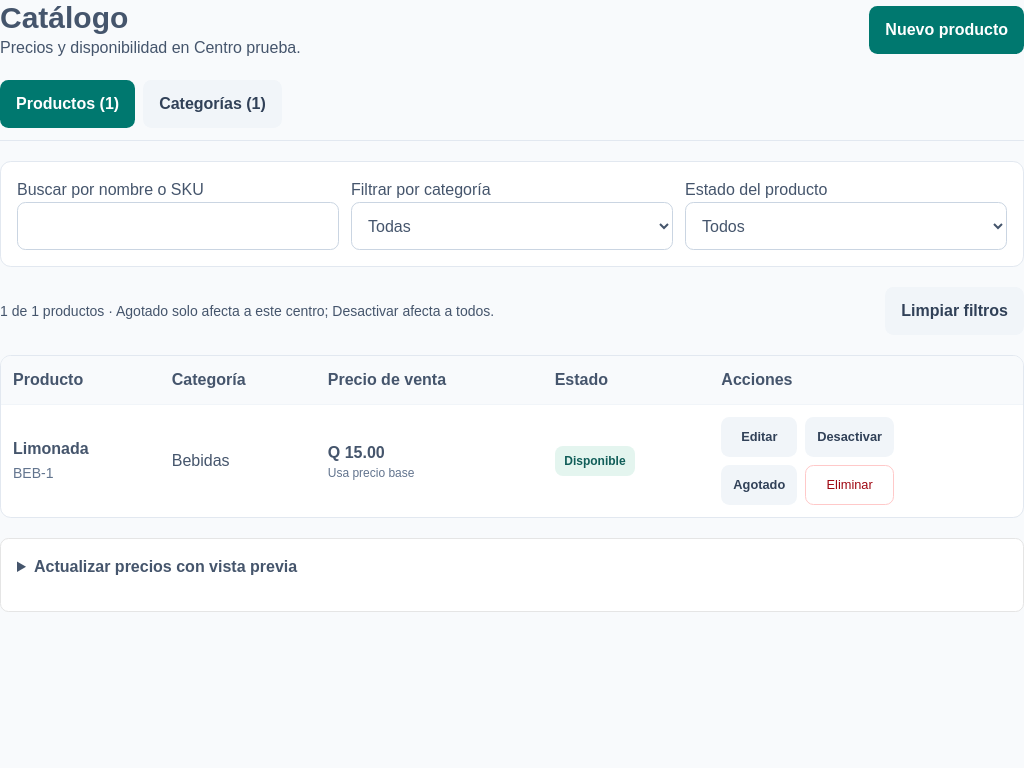
Test: Catálogo ordenado y editable › muestra errores de edición dentro del editor y conserva los campos para corregir o reintentar
Click the button with aria-label "Editar producto Limonada". click: (759, 437)
box: [721,417,797,457]
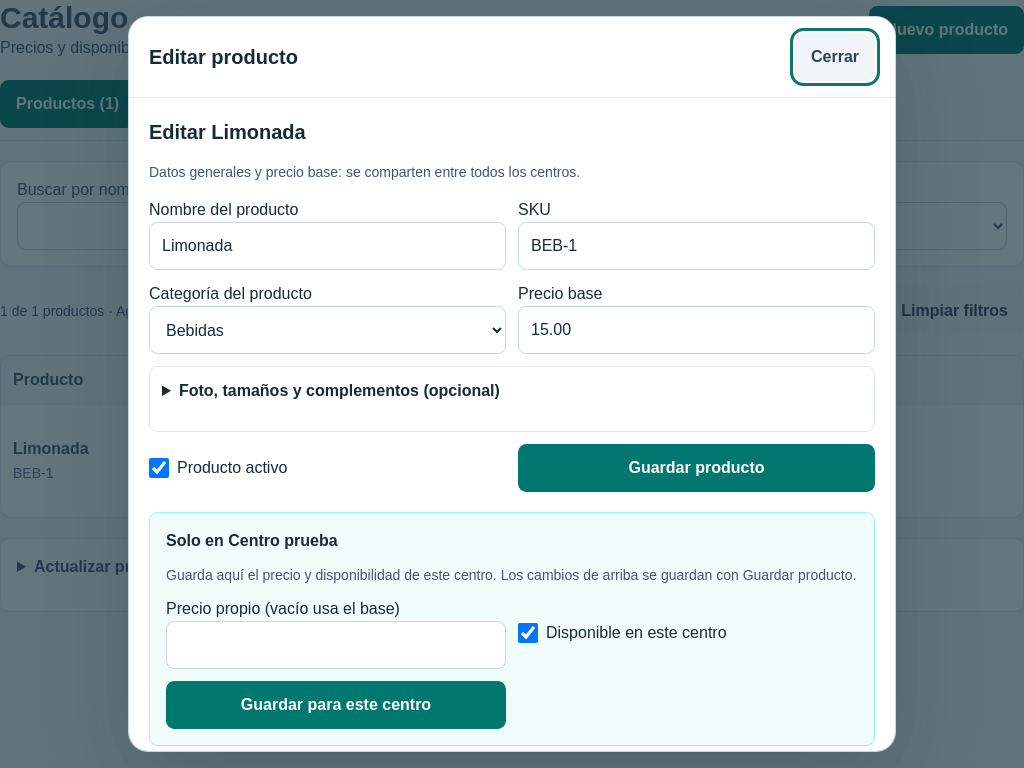
Replace the text in the field labelled "SKU" with "DUP-1". click: (696, 246)
box: [518,222,875,270]
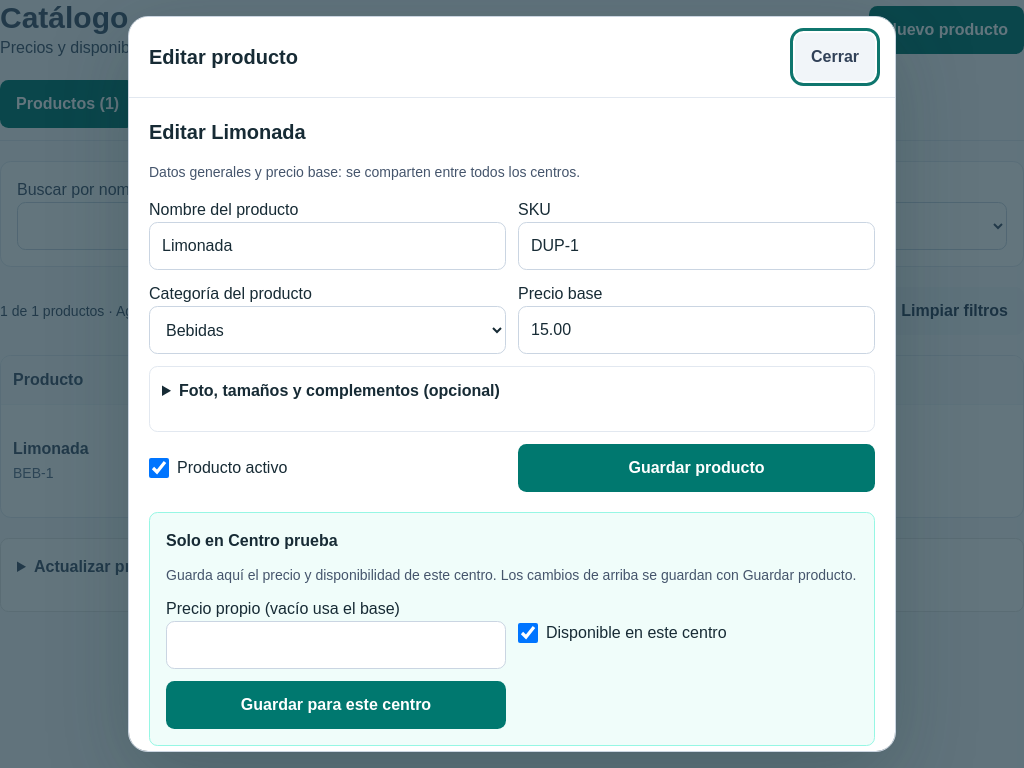
Click the button "Guardar producto". click: (696, 468)
box: [518,444,875,492]
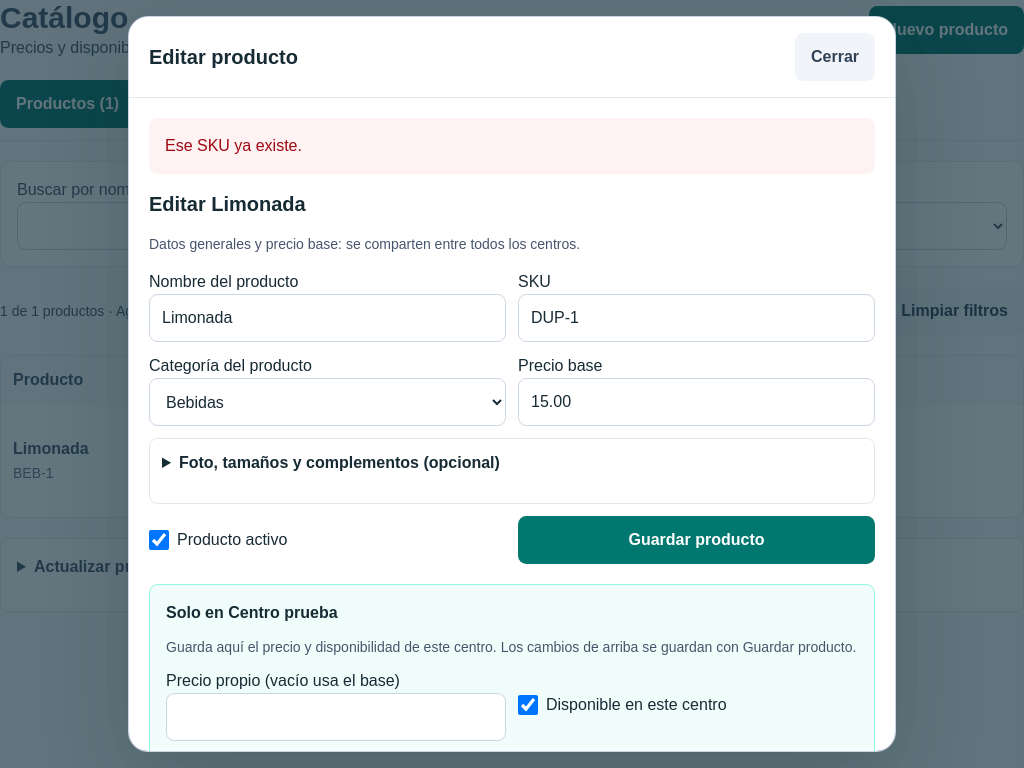
Result: the message reads "Ese SKU ya existe." at [165,137,302,154]
